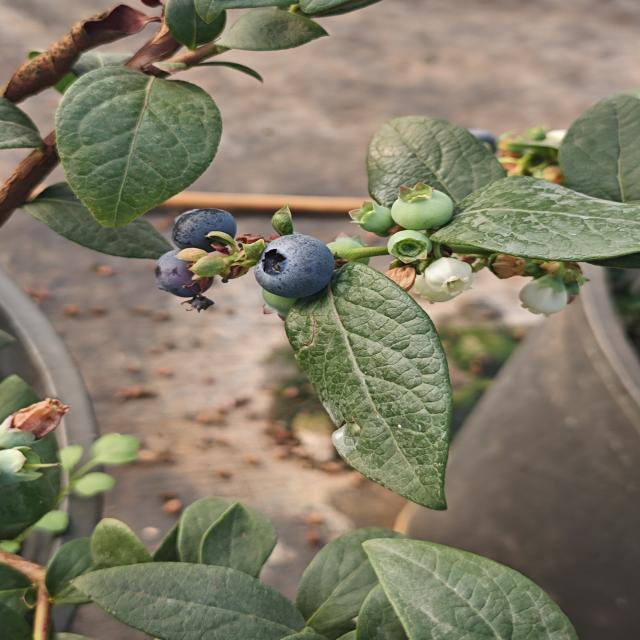ripe: (251, 232, 338, 301), (152, 247, 216, 300), (169, 206, 239, 254)
